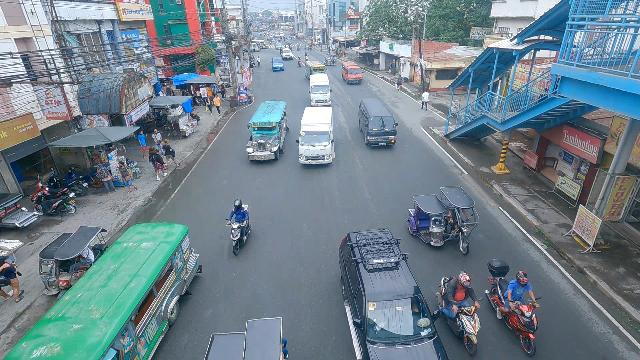car: (338, 229, 446, 360), (271, 56, 284, 71), (281, 48, 293, 60), (275, 43, 283, 50)
jeepney: (2, 218, 202, 360), (243, 99, 289, 164), (305, 60, 326, 81), (252, 39, 268, 49), (250, 43, 260, 52)
motorcycle: (485, 258, 542, 357), (434, 269, 488, 355), (224, 197, 254, 257), (297, 55, 303, 67), (304, 51, 309, 62), (296, 42, 300, 51), (269, 40, 272, 45)
van: (295, 105, 335, 168), (357, 97, 398, 149), (309, 74, 333, 106), (340, 62, 364, 84)
